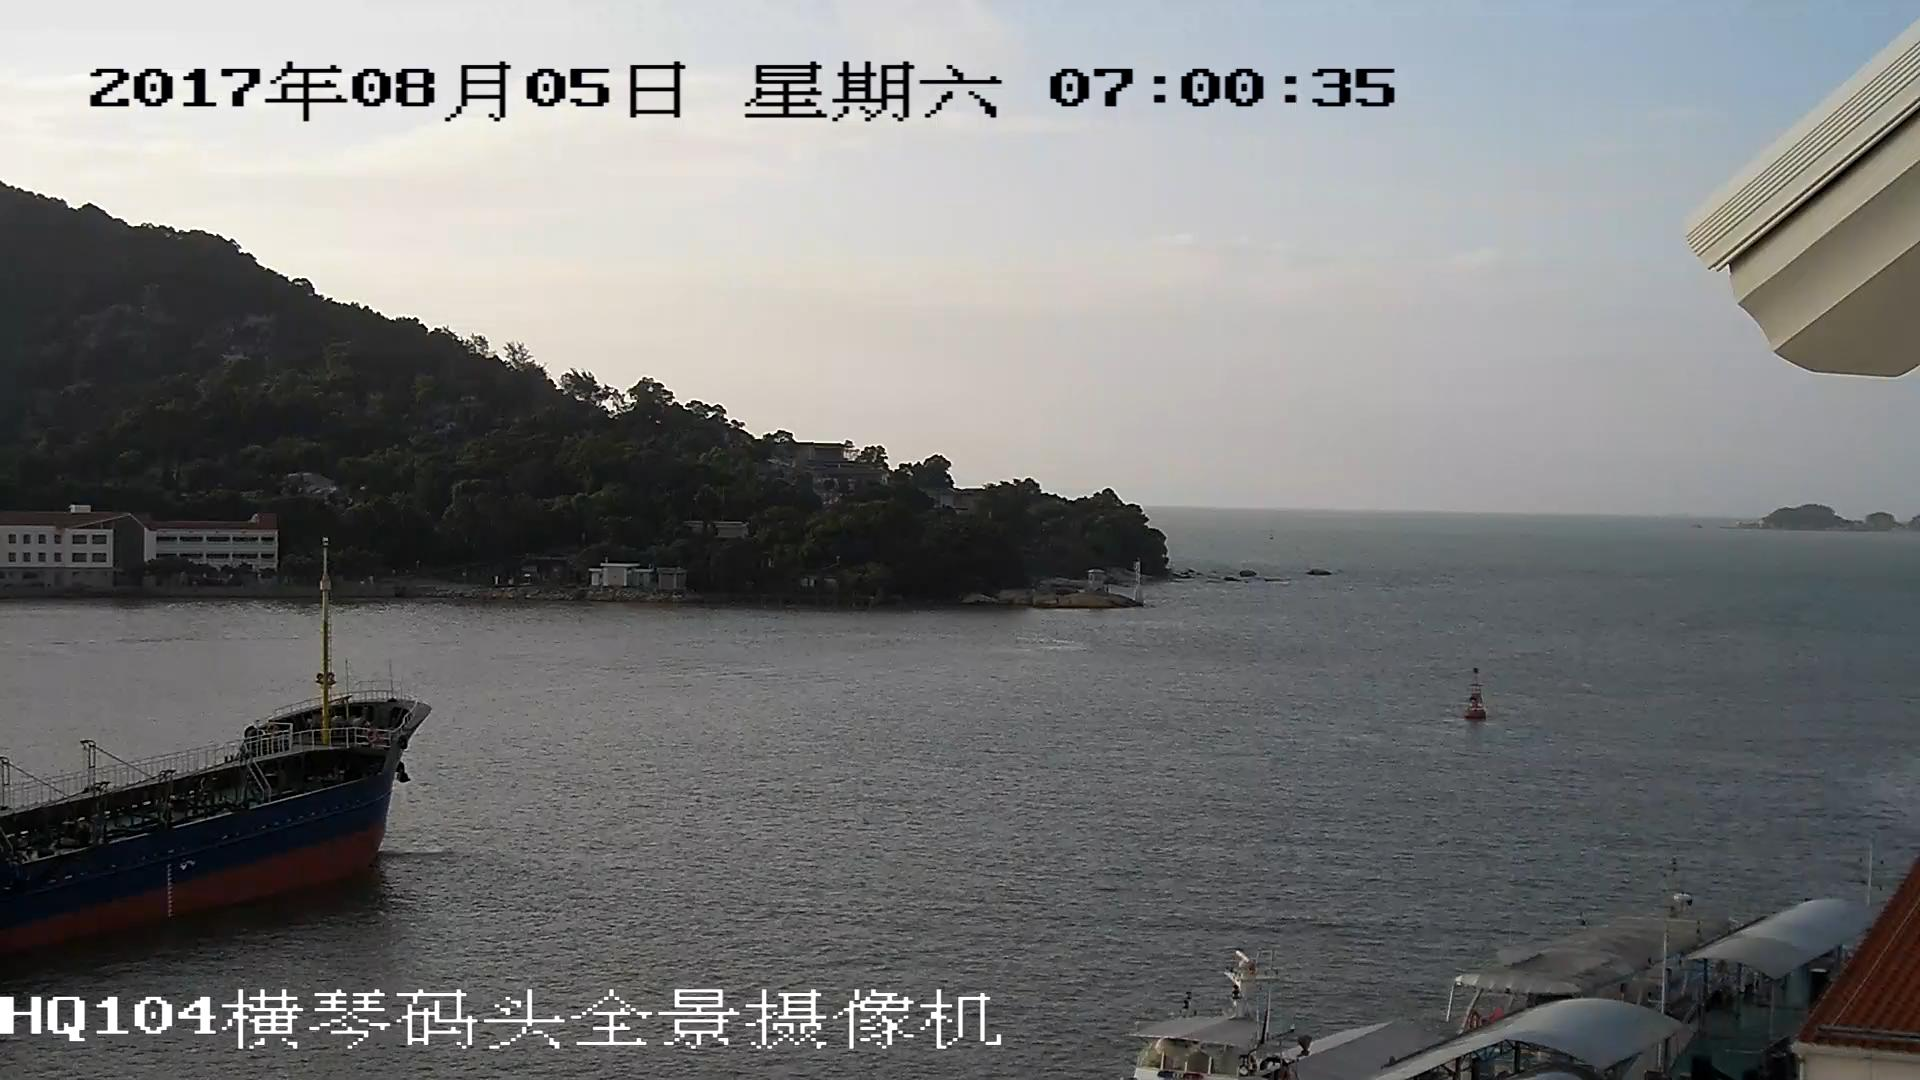general cargo ship: (1, 542, 427, 982)
